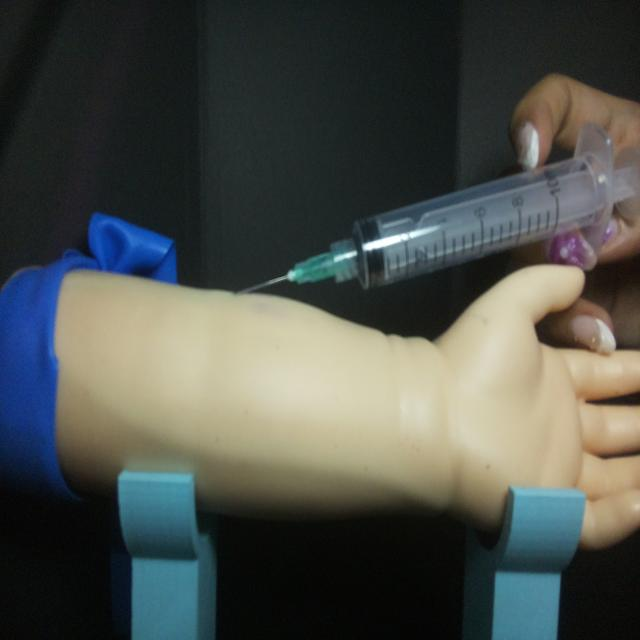21deg: (232, 119, 634, 300)
